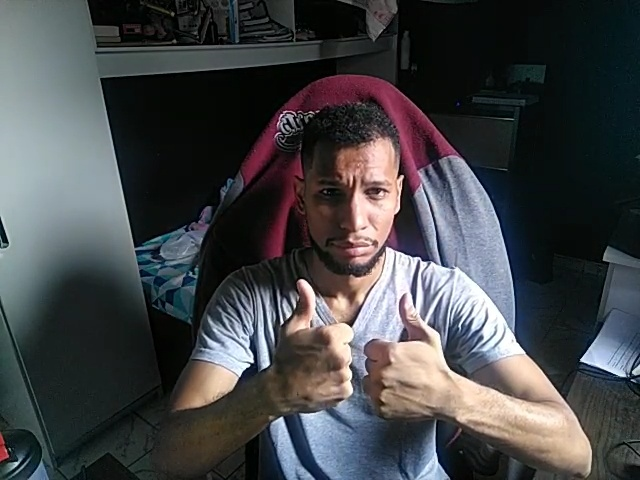sim: (273, 275, 355, 421), (361, 286, 448, 423)
